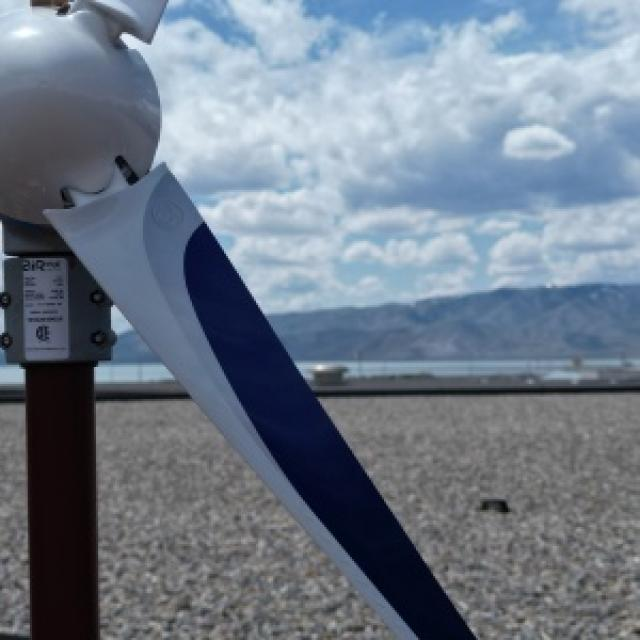healthy: (0, 0, 474, 638)
